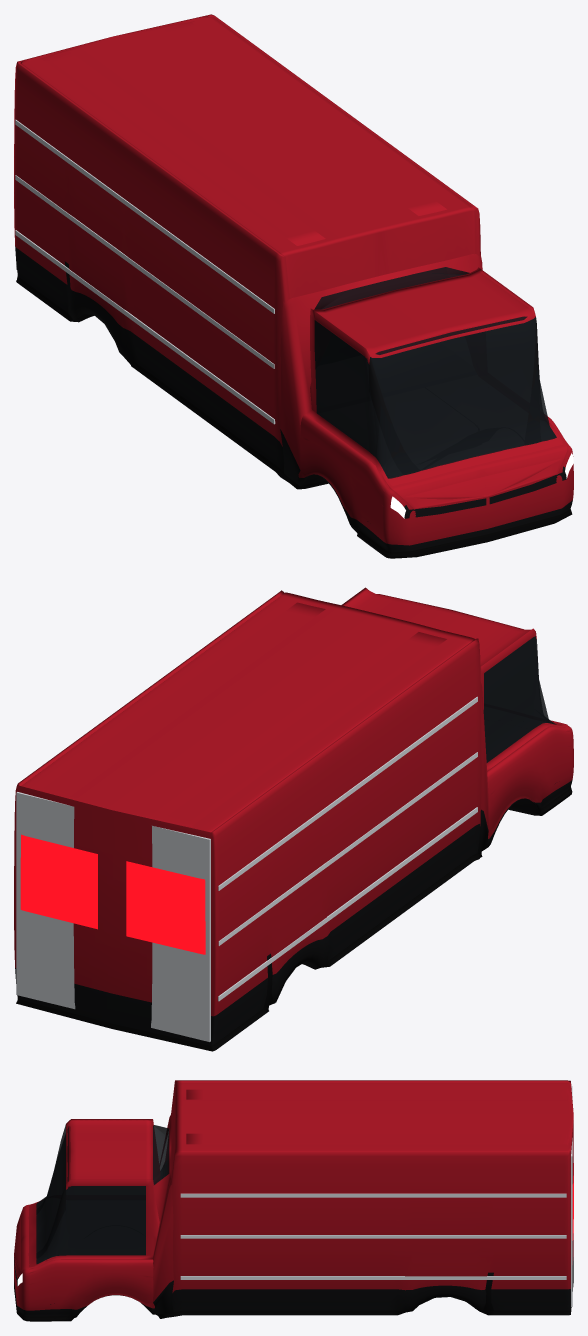
File: truck.glb
The picture shows the model from 3 angles, top to bottom: view 1: azimuth 30°, elevation 25°; view 2: azimuth 150°, elevation 25°; view 3: azimuth 270°, elevation 25°; orthographic projection. The views are drawn at different scales.
Parts seen in each view (by area): view 1: body (×2), cargo_trim, grille; view 2: body (×2), cargo_trim, taillights; view 3: body (×2), cargo_trim.
Part boxes in pixels (x1,y1,x2,y2): body (×2): (14,14,573,558); cargo_trim: (15,119,275,424); grille: (404,466,566,518); body (×2): (14,587,573,1051); cargo_trim: (16,696,477,1041); taillights: (20,834,205,954); body (×2): (14,1080,573,1321); cargo_trim: (180,1086,572,1306).
Bounding box in the file's own units: 2.35 × 2.53 × 7.4.
